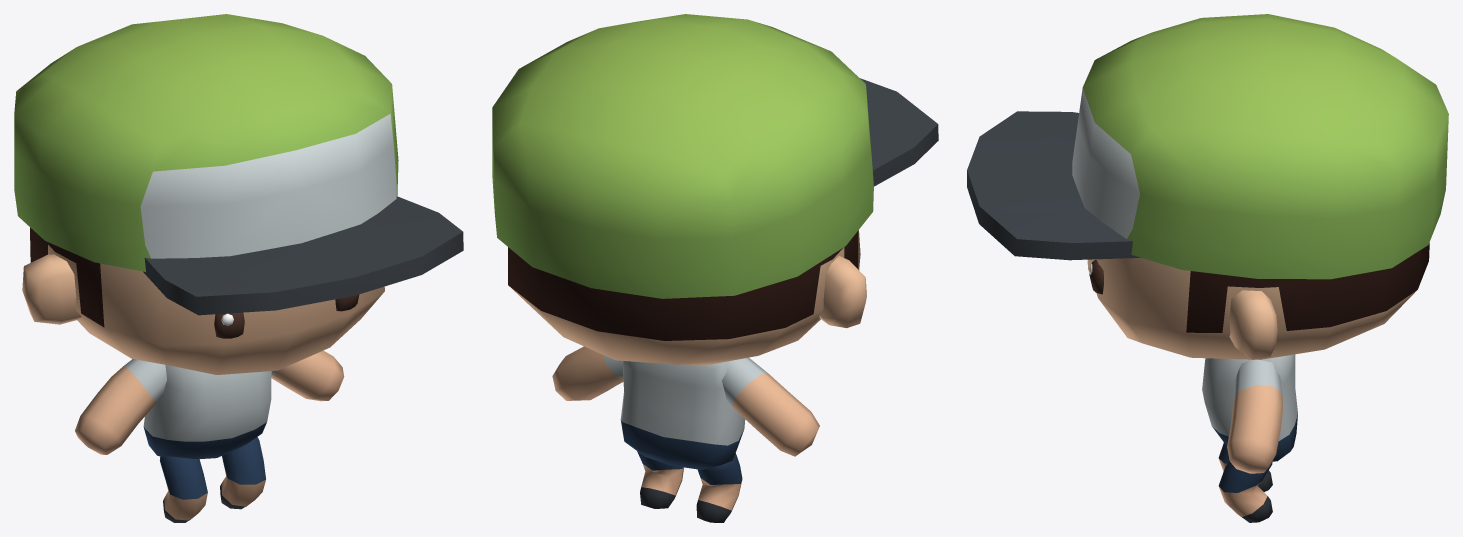
Rendered from jump_0001.obj.
The picture shows the model from 3 angles, left to right: view 1: azimuth 30°, elevation 25°; view 2: azimuth 150°, elevation 25°; view 3: azimuth 270°, elevation 25°; orthographic projection.
Visible parts, largest first — view 1: Object_41, Object_42, Object_44, Object_36, Object_38; view 2: Object_41, Object_44, Object_36, Object_42; view 3: Object_41, Object_36, Object_42, Object_44.
Boxes of the visible parts, left/top/right/bottom form: Object_41: left=14, top=14, right=398, bottom=271; Object_42: left=140, top=114, right=463, bottom=315; Object_44: left=75, top=350, right=344, bottom=522; Object_36: left=22, top=227, right=384, bottom=374; Object_38: left=214, top=294, right=359, bottom=338; Object_41: left=492, top=14, right=873, bottom=298; Object_44: left=552, top=346, right=819, bottom=522; Object_36: left=508, top=230, right=866, bottom=364; Object_42: left=860, top=78, right=938, bottom=186; Object_41: left=1082, top=14, right=1448, bottom=279; Object_36: left=1087, top=242, right=1429, bottom=359; Object_42: left=967, top=88, right=1140, bottom=260; Object_44: left=1202, top=354, right=1297, bottom=522.
Bounding box in the file's own units: 0.9691 × 1.2 × 1.13.
